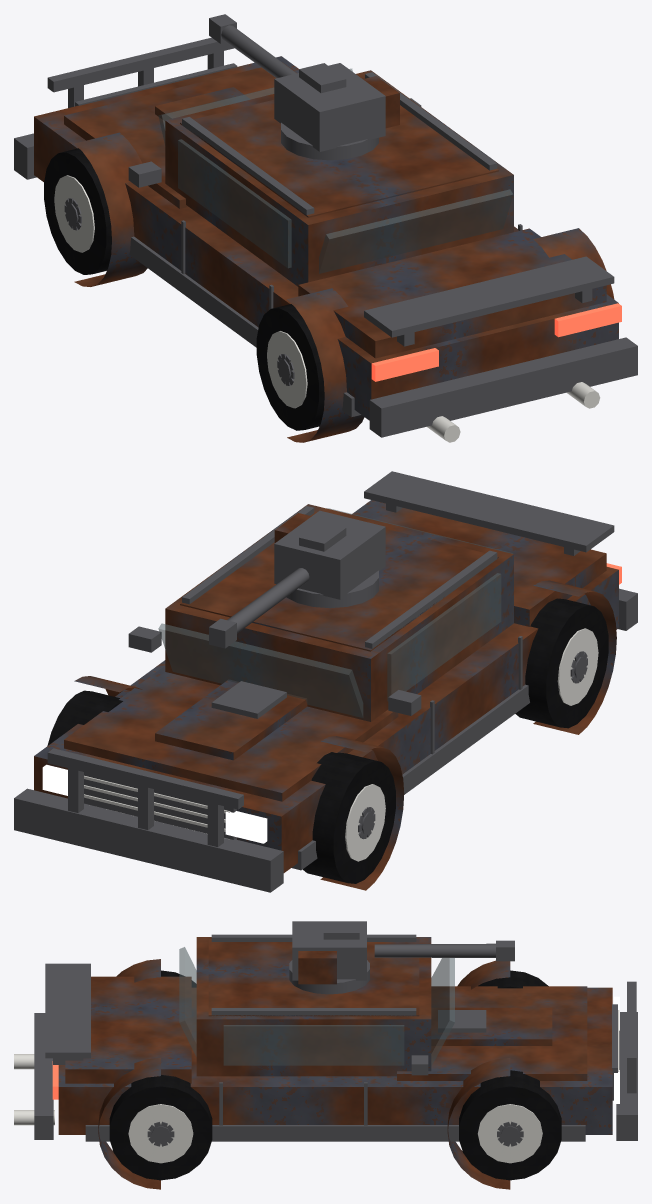
Rendered from enemy_raider_c.glb.
3 views of the same model, one above another, from view 1: azimuth 30°, elevation 25°; view 2: azimuth 150°, elevation 25°; view 3: azimuth 270°, elevation 25° (orthographic). The views are drawn at different scales.
Parts seen in each view (by area): view 1: raiderC_Body, Turret, Hood, Wheel_RL, Wheel_FL, Barrel; view 2: raiderC_Body, Hood, Wheel_FL, Wheel_RL, Turret, Barrel, Wheel_FR; view 3: raiderC_Body, Hood, Wheel_FR, Wheel_RR, Turret, Barrel, Wheel_FL.
Part boxes in pixels (x1,y1,x2,y2): raiderC_Body: [14, 37, 637, 442]; Turret: [274, 63, 399, 160]; Hood: [64, 62, 296, 208]; Wheel_RL: [256, 304, 324, 430]; Wheel_FL: [44, 148, 111, 274]; Barrel: [209, 14, 296, 78]; raiderC_Body: [14, 471, 637, 892]; Hood: [64, 666, 398, 801]; Wheel_FL: [303, 752, 395, 883]; Wheel_RL: [515, 598, 608, 728]; Turret: [274, 510, 385, 608]; Barrel: [209, 568, 309, 648]; Wheel_FR: [47, 690, 122, 745]; raiderC_Body: [14, 934, 637, 1189]; Hood: [397, 986, 587, 1080]; Wheel_FR: [459, 1070, 561, 1180]; Wheel_RR: [109, 1075, 212, 1180]; Turret: [289, 921, 369, 994]; Barrel: [374, 940, 514, 961]; Wheel_FL: [478, 970, 548, 988].
Size of the model in its own units: 2.34 by 1.86 by 5.18.
Materials: 7 (2 with a texture image).
